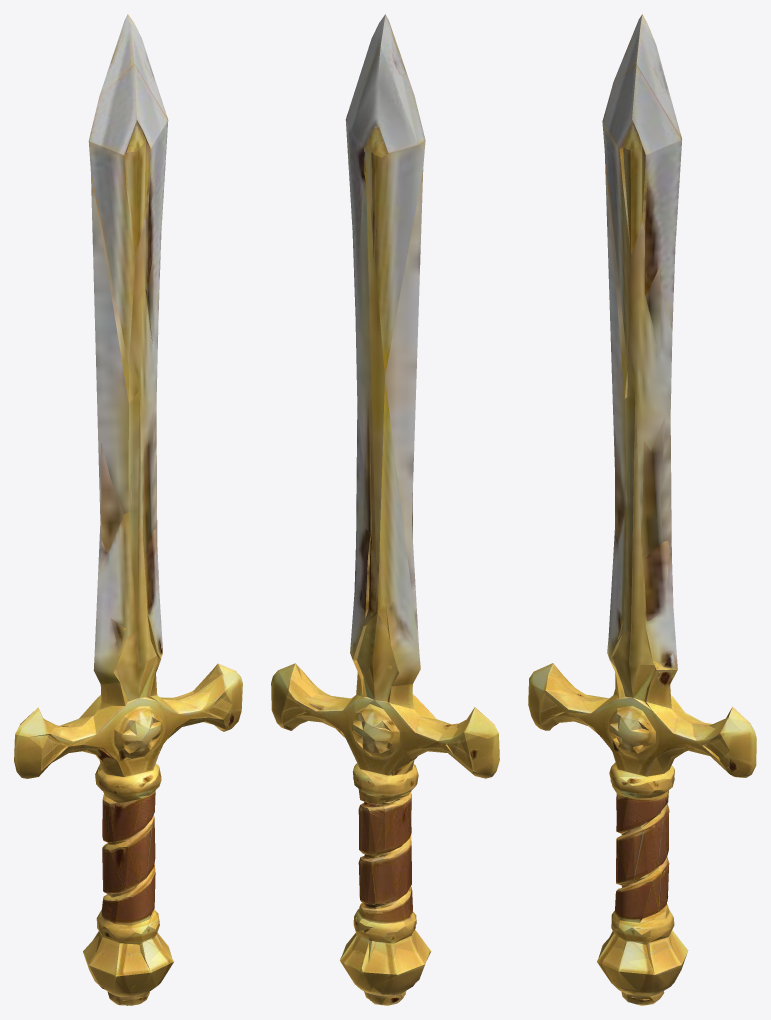
The model's file is sword_v2.glb.
The picture shows the model from 3 angles, left to right: view 1: azimuth 30°, elevation 25°; view 2: azimuth 150°, elevation 25°; view 3: azimuth 330°, elevation 25°; orthographic projection.
Size of the model in its own units: 0.4602 by 1.9 by 0.163.
Materials: 1 (1 with a texture image).
